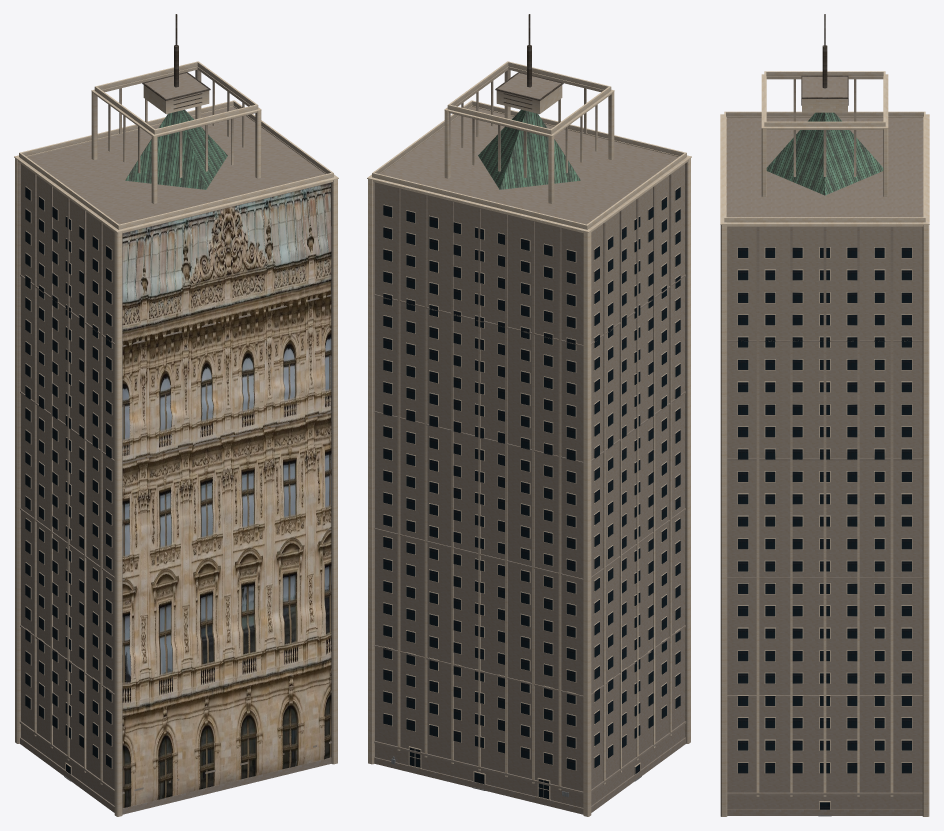
The model's file is ledger-tower_lod0.gltf.
3 views of the same model, side by side, from view 1: azimuth 30°, elevation 25°; view 2: azimuth 150°, elevation 25°; view 3: azimuth 270°, elevation 25° (orthographic).
Visible parts, largest first — view 1: ledger-tower_front, ledger-tower_tier0, ledger-tower__v4_stone_detail, ledger-tower_fen_07-glass-curtain-blue_1_t, ledger-tower_crown, ledger-tower_fen_04-limestone_0, ledger-tower__v4_metal_detail; view 2: ledger-tower_tier0, ledger-tower__v4_stone_detail, ledger-tower_fen_07-glass-curtain-blue_1_t, ledger-tower_fen_04-limestone_0, ledger-tower_crown, ledger-tower__v4_metal_detail; view 3: ledger-tower_tier0, ledger-tower__v4_stone_detail, ledger-tower_fen_07-glass-curtain-blue_1_t, ledger-tower_fen_04-limestone_0, ledger-tower_crown, ledger-tower__v4_metal_detail.
Part boxes in pixels (x1,y1,x2,y2): ledger-tower_front: [122, 183, 331, 807]; ledger-tower_tier0: [21, 107, 325, 805]; ledger-tower__v4_stone_detail: [14, 61, 338, 816]; ledger-tower_fen_07-glass-curtain-blue_1_t: [25, 187, 111, 773]; ledger-tower_crown: [125, 109, 227, 189]; ledger-tower_fen_04-limestone_0: [25, 186, 112, 774]; ledger-tower__v4_metal_detail: [142, 14, 210, 109]; ledger-tower_tier0: [375, 107, 684, 807]; ledger-tower__v4_stone_detail: [367, 61, 691, 816]; ledger-tower_fen_07-glass-curtain-blue_1_t: [383, 187, 680, 799]; ledger-tower_fen_04-limestone_0: [383, 186, 680, 800]; ledger-tower_crown: [478, 109, 580, 189]; ledger-tower__v4_metal_detail: [495, 14, 563, 109]; ledger-tower_tier0: [726, 118, 923, 809]; ledger-tower__v4_stone_detail: [720, 71, 929, 816]; ledger-tower_fen_07-glass-curtain-blue_1_t: [738, 247, 911, 809]; ledger-tower_fen_04-limestone_0: [737, 247, 912, 809]; ledger-tower_crown: [766, 112, 883, 195]; ledger-tower__v4_metal_detail: [801, 14, 848, 105].
Size of the model in its own units: 51.6 by 164 by 41.6.
